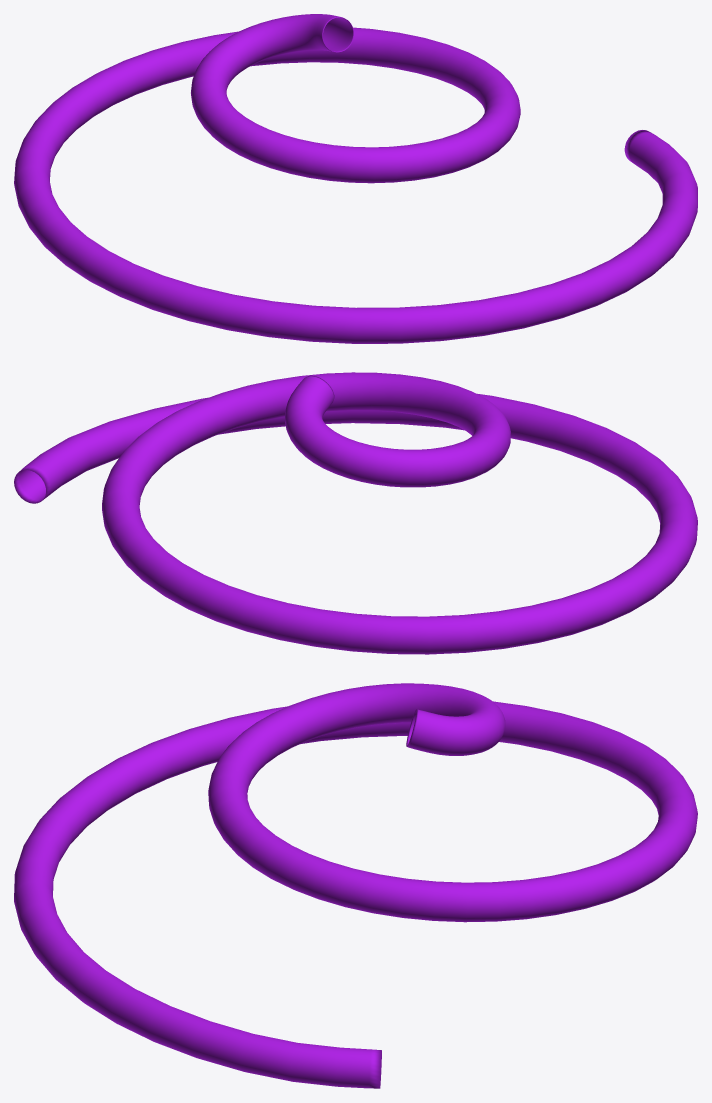
File: Slide2.fbx
3 renders of one model, top to bottom at view 1: azimuth 30°, elevation 25°; view 2: azimuth 150°, elevation 25°; view 3: azimuth 270°, elevation 25°, orthographic. The views are drawn at different scales.
Parts seen in each view (by area): view 1: Spiral.005; view 2: Spiral.005; view 3: Spiral.005.
Part boxes in pixels (x1=…): Spiral.005: x1=14, y1=14, x2=697, y2=343; Spiral.005: x1=14, y1=372, x2=697, y2=654; Spiral.005: x1=14, y1=683, x2=697, y2=1088.
Bounding box in the file's own units: 7349 × 2361 × 6591.
